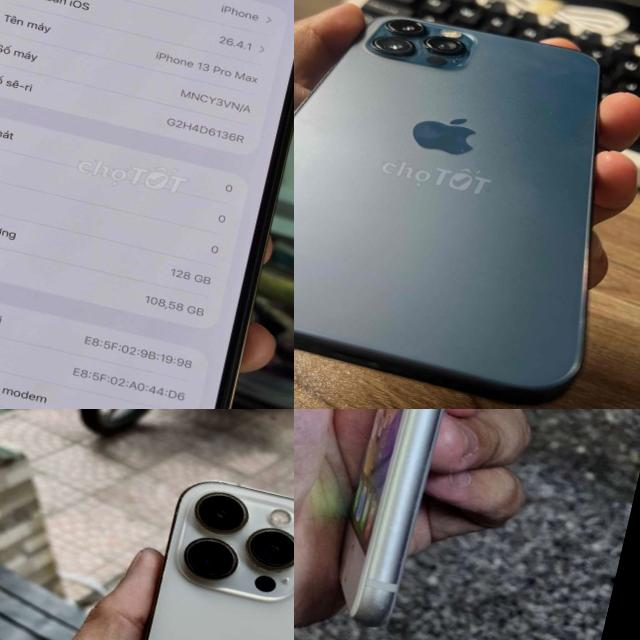gen_12_13: (294, 0, 640, 409), (0, 0, 294, 409), (85, 468, 294, 640)
gen_7_8: (339, 409, 444, 625)
scratch: (342, 586, 393, 632)
